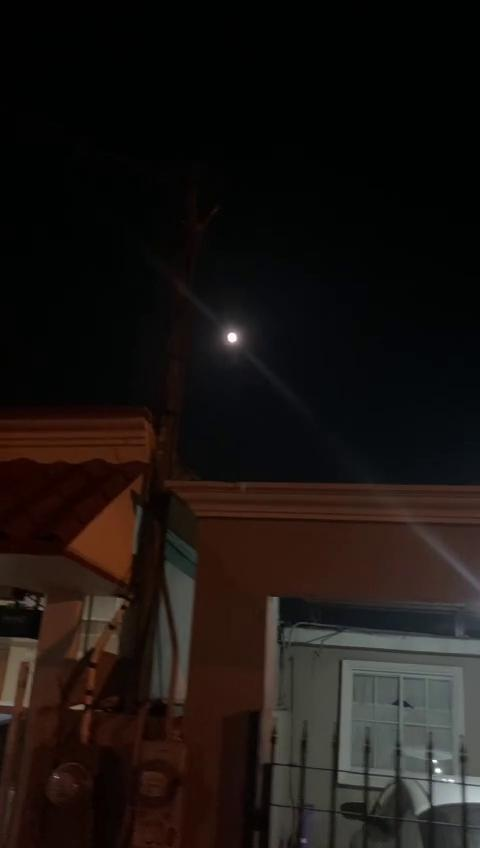moon: (214, 326, 244, 348)
